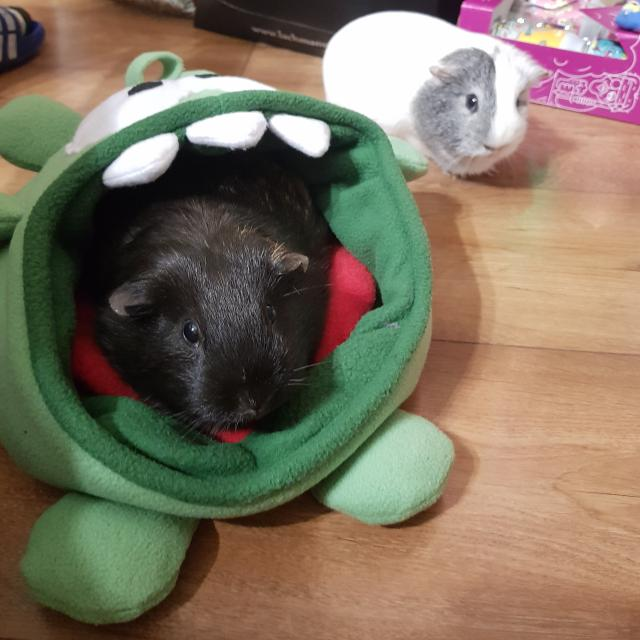guinea pig: (84, 139, 332, 432), (319, 7, 555, 183)
